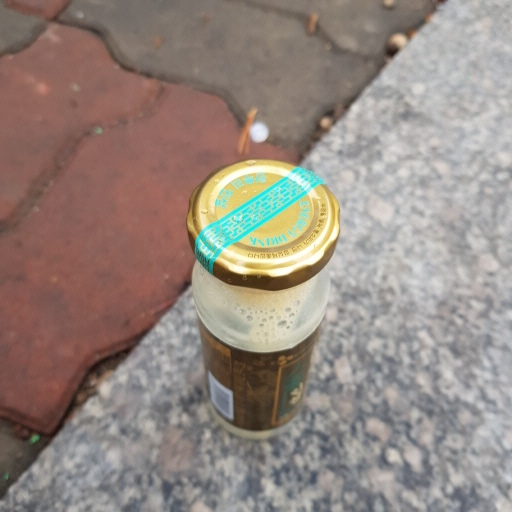Glass_4: (179, 155, 342, 439)
